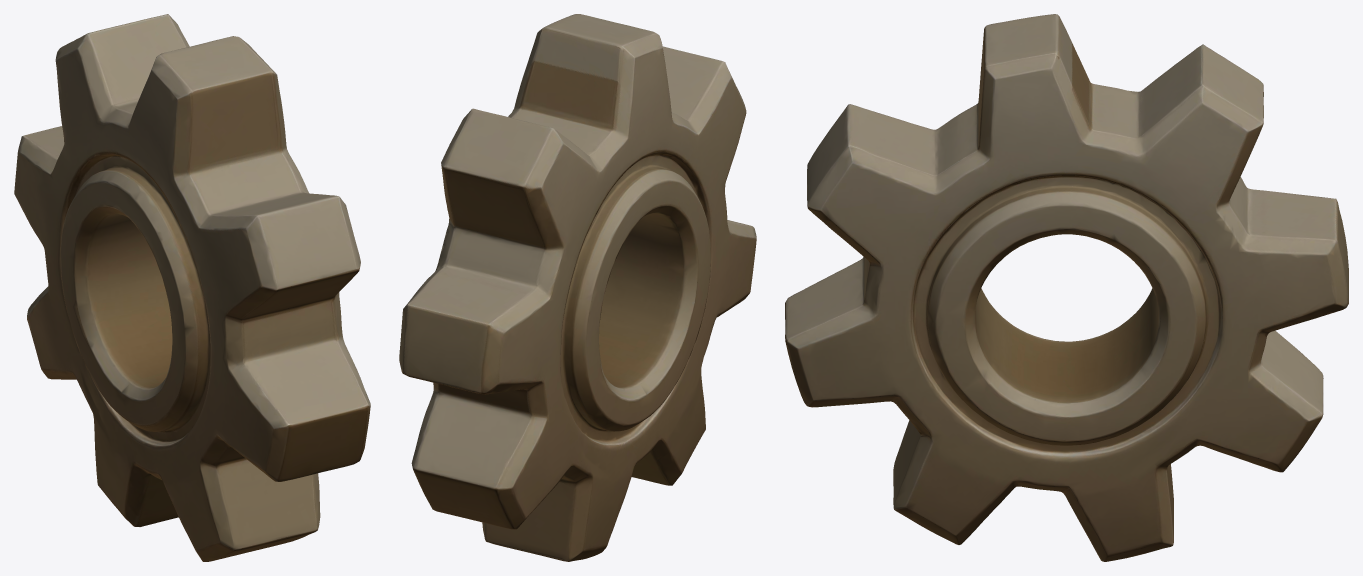
Rendered from gear.glb.
3 renders of one model, left to right at view 1: azimuth 30°, elevation 25°; view 2: azimuth 150°, elevation 25°; view 3: azimuth 270°, elevation 25°, orthographic. The views are drawn at different scales.
Parts seen in each view (by area): view 1: tripo_node_c5554b4b-ab4d-47b0-9f2f-11125d1cfeb0; view 2: tripo_node_c5554b4b-ab4d-47b0-9f2f-11125d1cfeb0; view 3: tripo_node_c5554b4b-ab4d-47b0-9f2f-11125d1cfeb0.
Boxes of the visible parts, x1=… form: tripo_node_c5554b4b-ab4d-47b0-9f2f-11125d1cfeb0: x1=14, y1=14, x2=370, y2=561; tripo_node_c5554b4b-ab4d-47b0-9f2f-11125d1cfeb0: x1=399, y1=14, x2=756, y2=561; tripo_node_c5554b4b-ab4d-47b0-9f2f-11125d1cfeb0: x1=785, y1=14, x2=1348, y2=561.
Size of the model in its own units: 0.2984 by 0.9973 by 1.
Materials: 1 (1 with a texture image).
